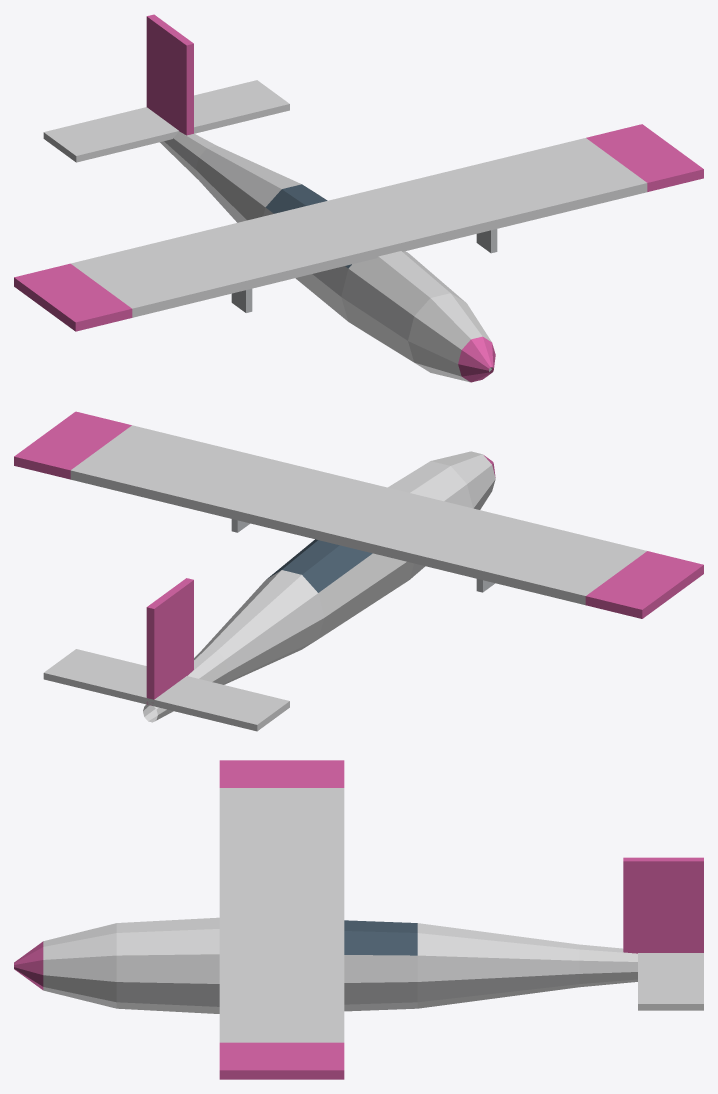
Rendered from avion.glb.
The picture shows the model from 3 angles, top to bottom: view 1: azimuth 30°, elevation 25°; view 2: azimuth 150°, elevation 25°; view 3: azimuth 270°, elevation 25°; orthographic projection.
Size of the model in its own units: 1 by 0.2256 by 0.94.
